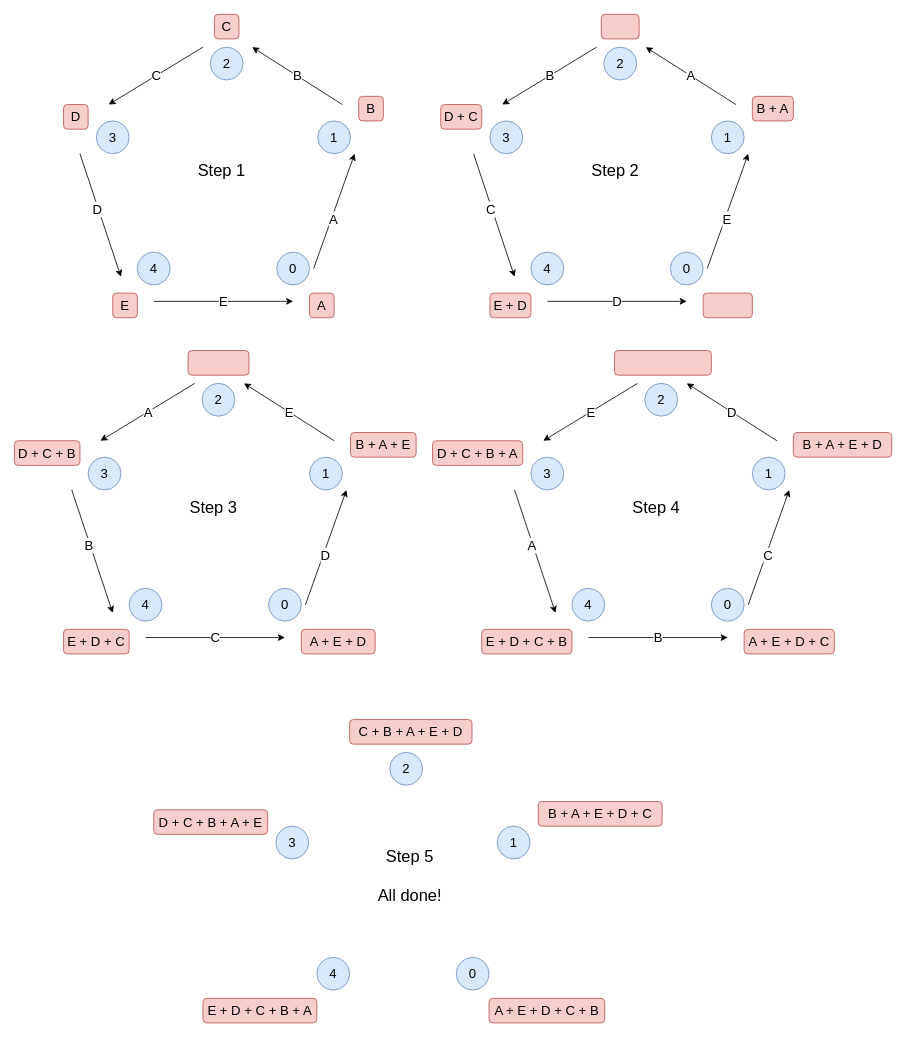
Some shapes in this 906 by 1037 pixel diagram are drawn without their labels. The centre of each missing label's shape, as x and y in pixels:
"A + E" belongs at (727,305).
"C + B" belongs at (619,26).
"C + B + A" belongs at (218,362).
"C + B + A + E" belongs at (662,362).
